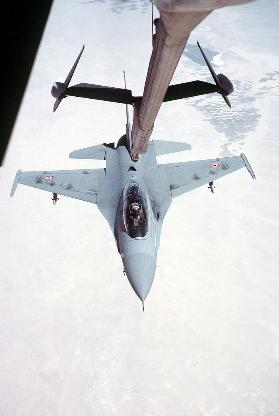F14: (8, 68, 255, 312)
